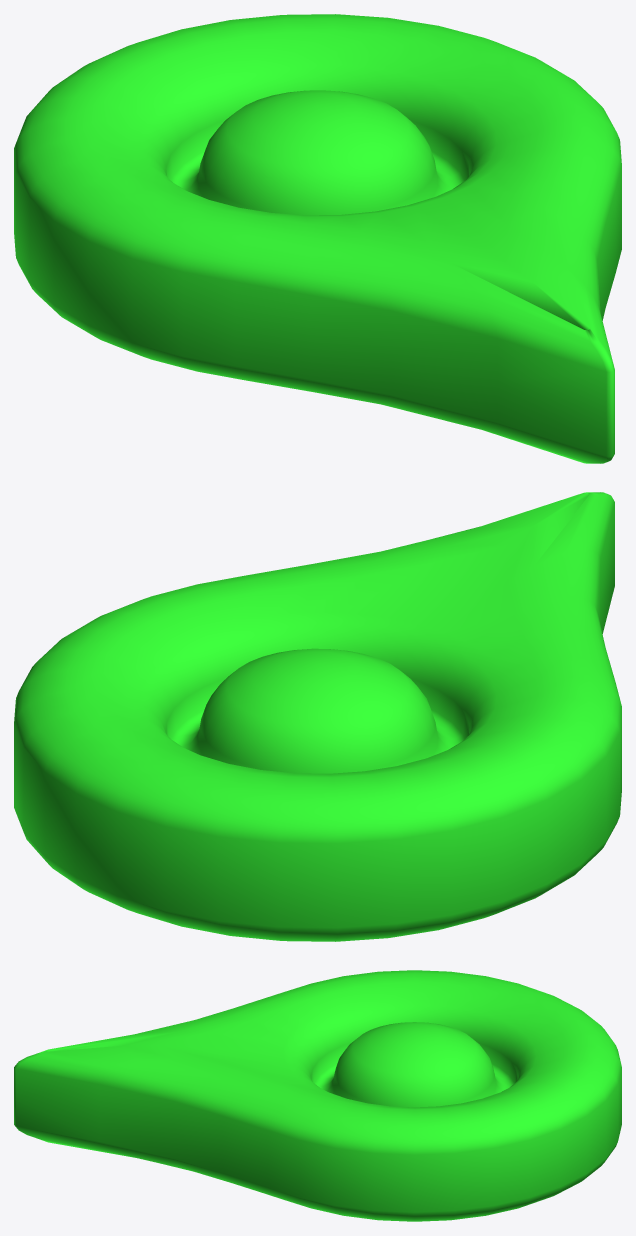
File: Thaidrop.obj
3 renders of one model, top to bottom at view 1: azimuth 30°, elevation 25°; view 2: azimuth 150°, elevation 25°; view 3: azimuth 270°, elevation 25°, orthographic. The views are drawn at different scales.
Parts seen in each view (by area): view 1: Thaidrop; view 2: Thaidrop; view 3: Thaidrop.
Part boxes in pixels (<box>): Thaidrop: <box>14,14,621,463</box>; Thaidrop: <box>14,492,621,941</box>; Thaidrop: <box>14,970,621,1221</box>.
Bounding box in the file's own units: 0.6823 × 0.2302 × 1.
